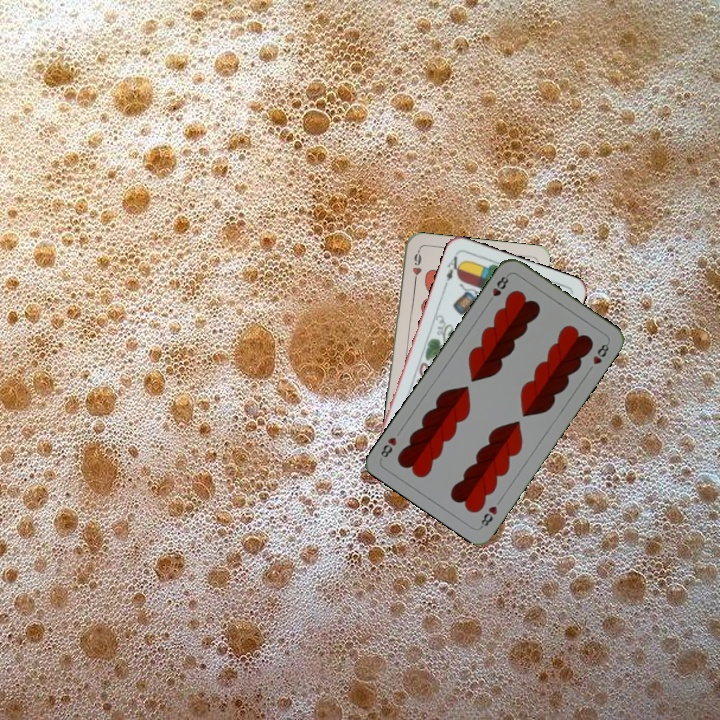EA: (440, 252, 465, 289)
H8: (484, 270, 512, 306), (476, 502, 500, 530)
H9: (408, 247, 424, 287)
